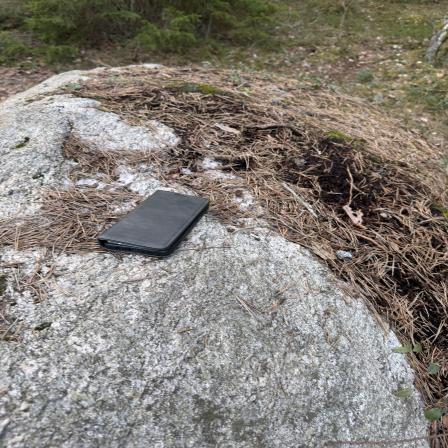phone: (96, 188, 214, 256)
